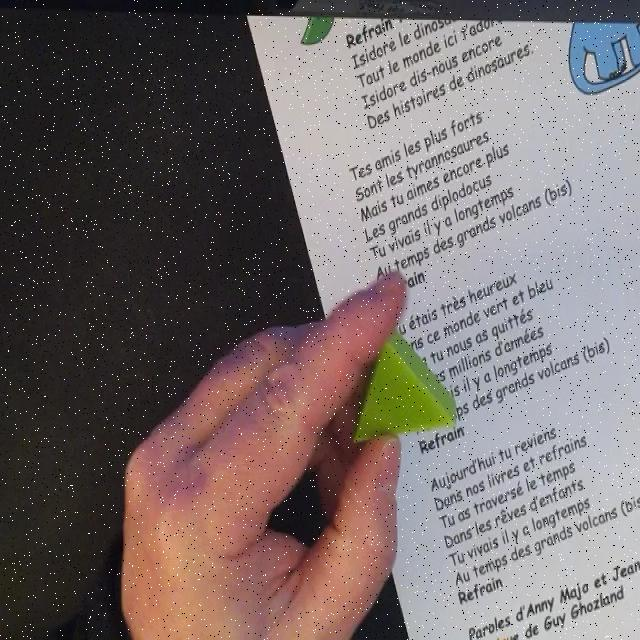triangle: (352, 331, 458, 446)
